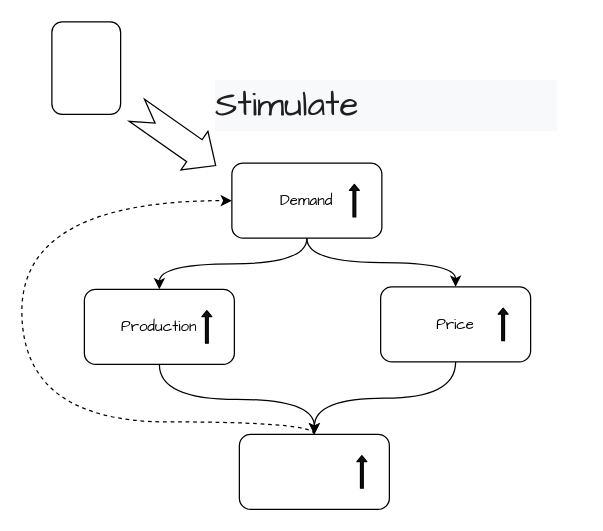
This 603x531 diagram has some shape labels left out. The box of each missing label's shape, as (x1, y1, x2, y2) in pixels:
Central Bank: (51, 21, 121, 114)
Corporate Profits: (238, 433, 389, 509)
